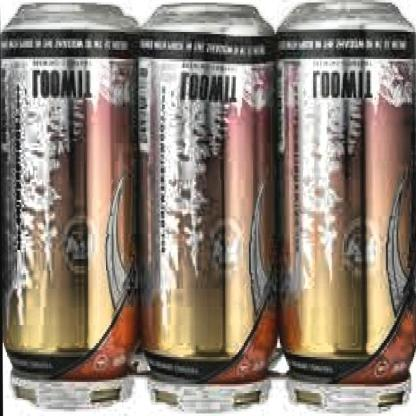Can: (138, 0, 280, 416), (0, 0, 142, 416), (278, 0, 416, 416)
